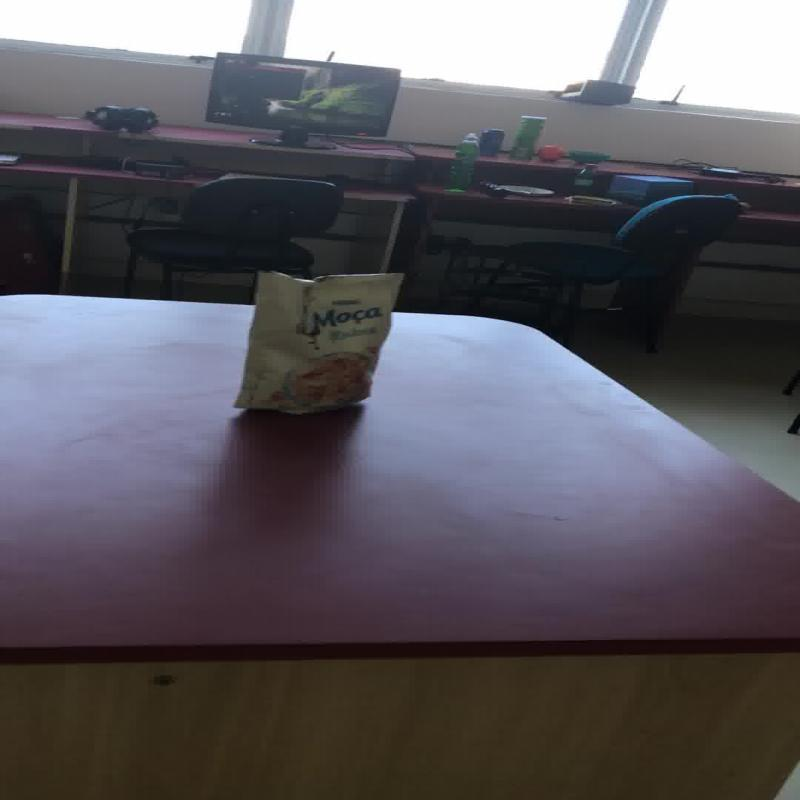corn flakes: (232, 268, 404, 414)
